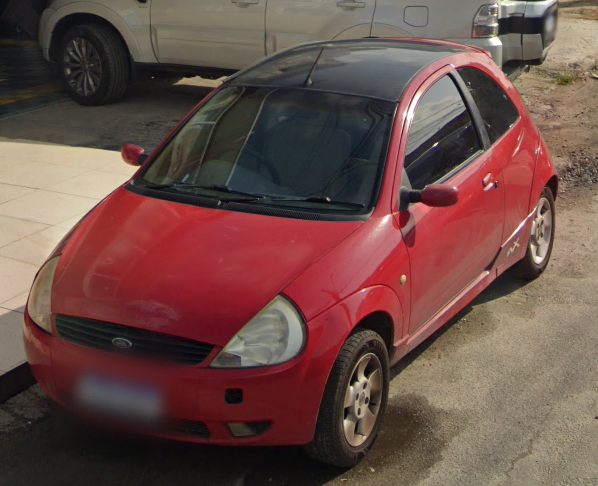car: (21, 43, 563, 465)
